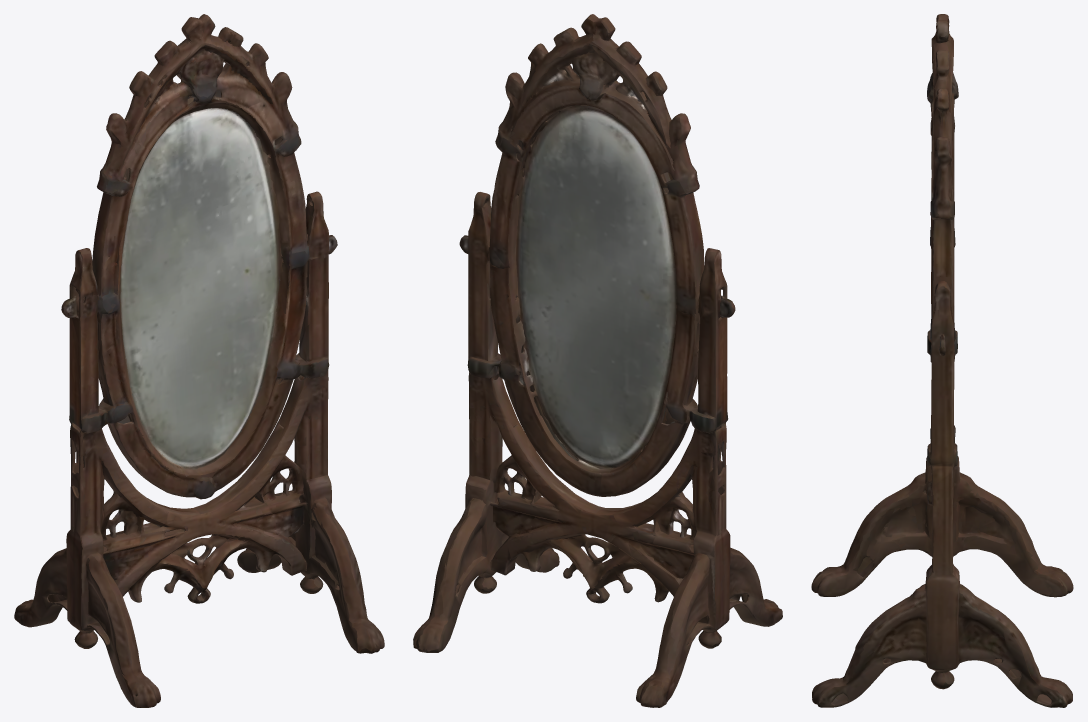
File: obj_study_mirror.glb
The picture shows the model from 3 angles, left to right: view 1: azimuth 30°, elevation 25°; view 2: azimuth 150°, elevation 25°; view 3: azimuth 270°, elevation 25°; orthographic projection.
Parts seen in each view (by area): view 1: geometry_0; view 2: geometry_0; view 3: geometry_0.
Part boxes in pixels (left/top/right/bottom): geometry_0: left=14, top=14, right=384, bottom=707; geometry_0: left=413, top=14, right=782, bottom=707; geometry_0: left=811, top=14, right=1073, bottom=707.
Bounding box in the file's own units: 2.03 × 4.38 × 1.65.
Materials: 1 (1 with a texture image).
